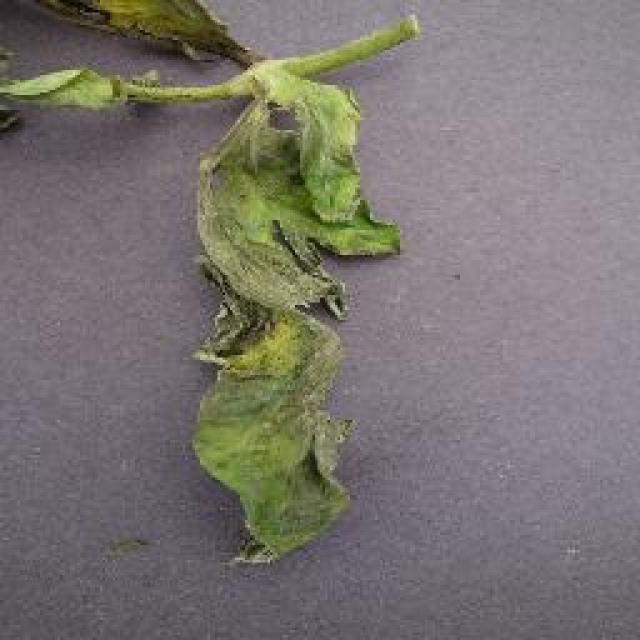Tomato Late Blight: (197, 57, 360, 548)
